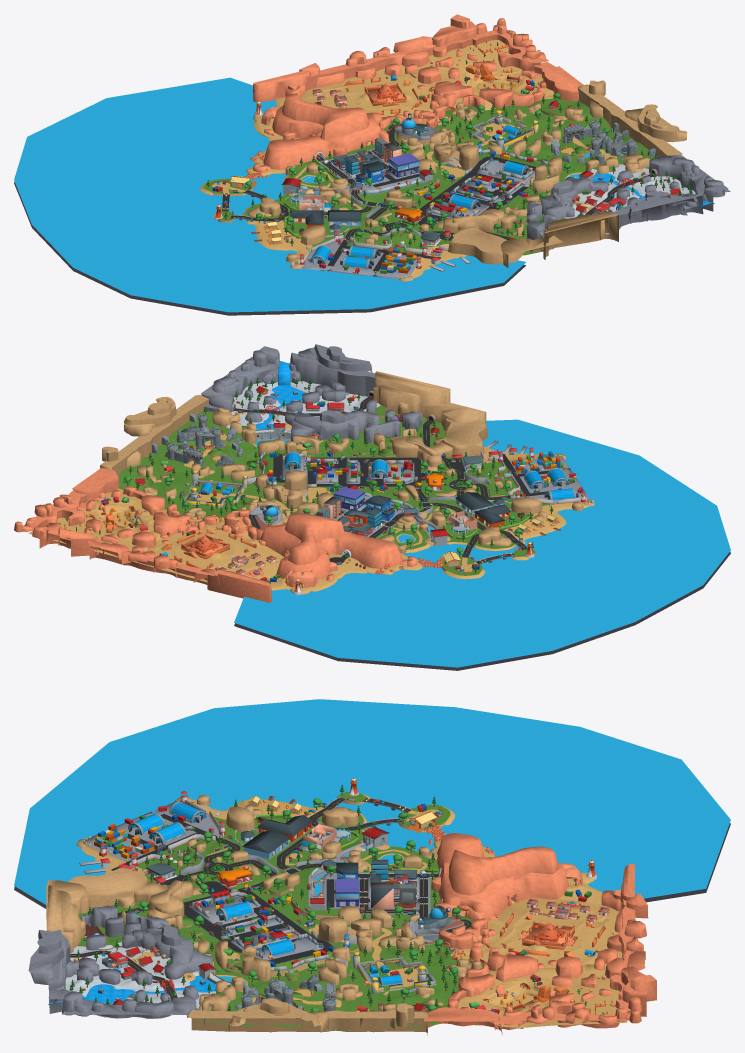
File: map_low.glb
3 renders of one model, top to bottom at view 1: azimuth 30°, elevation 25°; view 2: azimuth 150°, elevation 25°; view 3: azimuth 270°, elevation 25°, orthographic. The views are drawn at different scales.
Visible parts, largest first — view 1: ACUnit1_LOD0; view 2: ACUnit1_LOD0; view 3: ACUnit1_LOD0.
Boxes of the visible parts, box(x1,y1,x2,y2) form: ACUnit1_LOD0: box(14, 14, 730, 315); ACUnit1_LOD0: box(14, 344, 730, 670); ACUnit1_LOD0: box(14, 699, 730, 1035).
Bounding box in the file's own units: 856 × 64.09 × 738.
16 materials, 13 textured.
